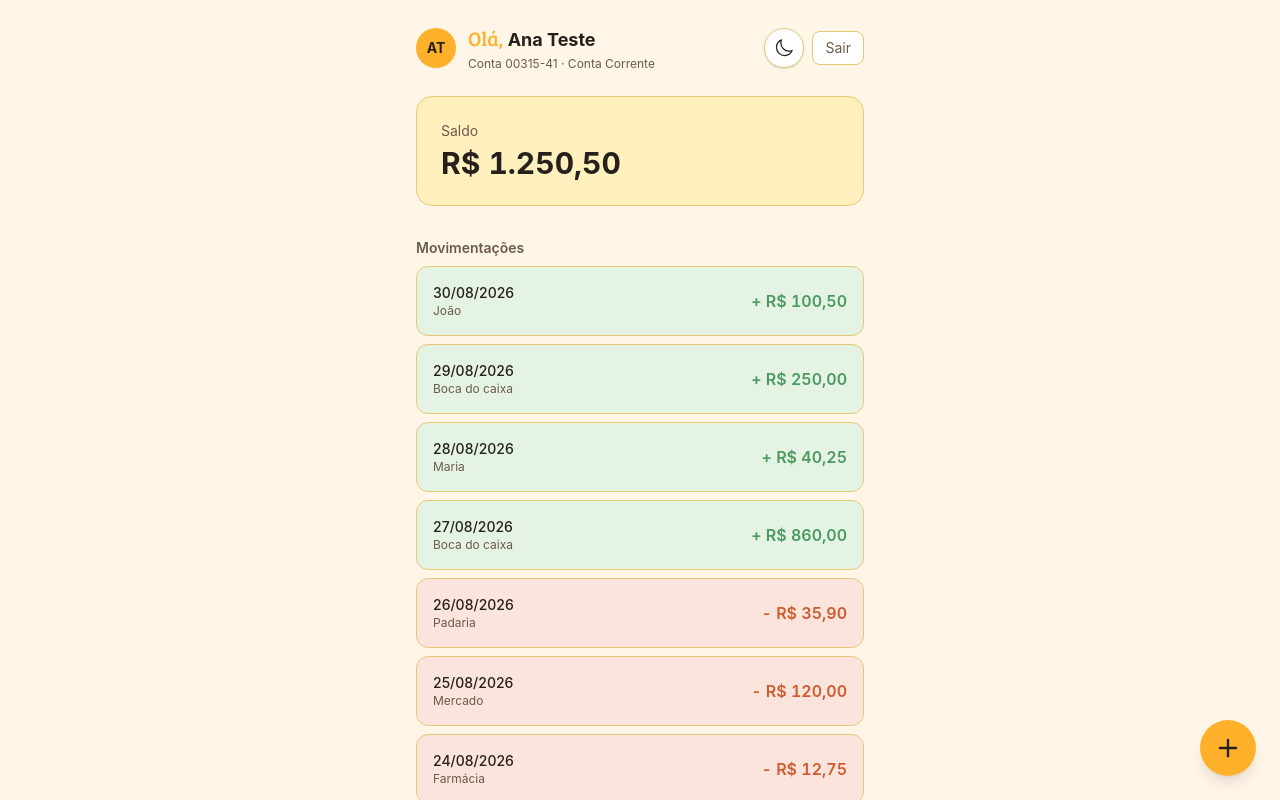
Test: ExtratoPage › abre o modal de movimentação ao clicar no FAB
This screenshot has width=1280, height=800.
Step 1. Click the button named "Nova movimentação" → click(1228, 748), box [1200,720,1256,776]
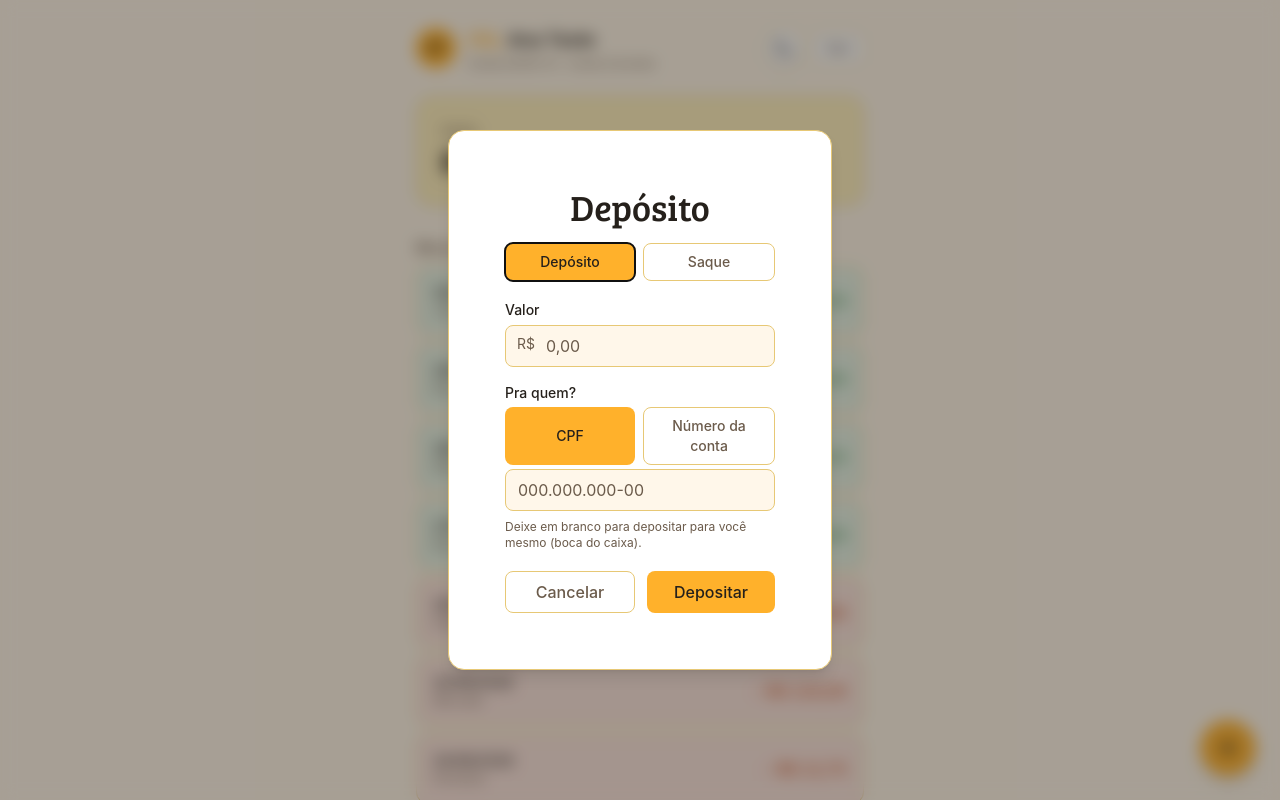
Expected: the dialog "Depósito" is shown
Expected: the button "Depositar" is shown, [647,571,775,613]
